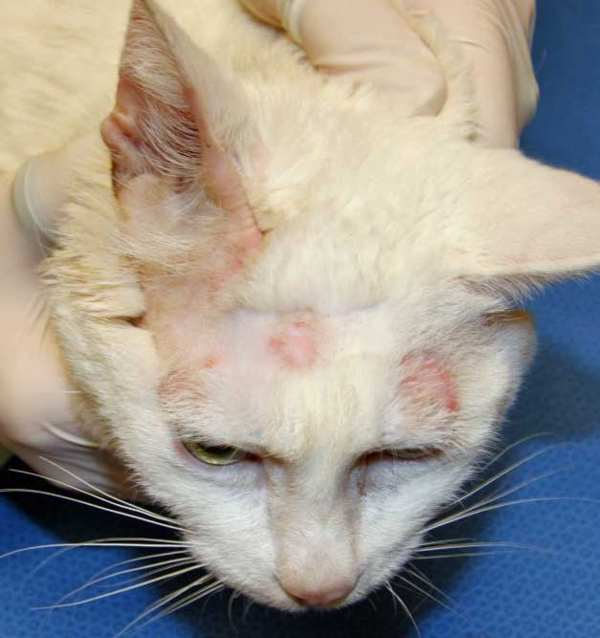ringworm: (396, 345, 462, 423), (267, 318, 321, 372), (154, 362, 208, 413), (199, 347, 223, 380)
